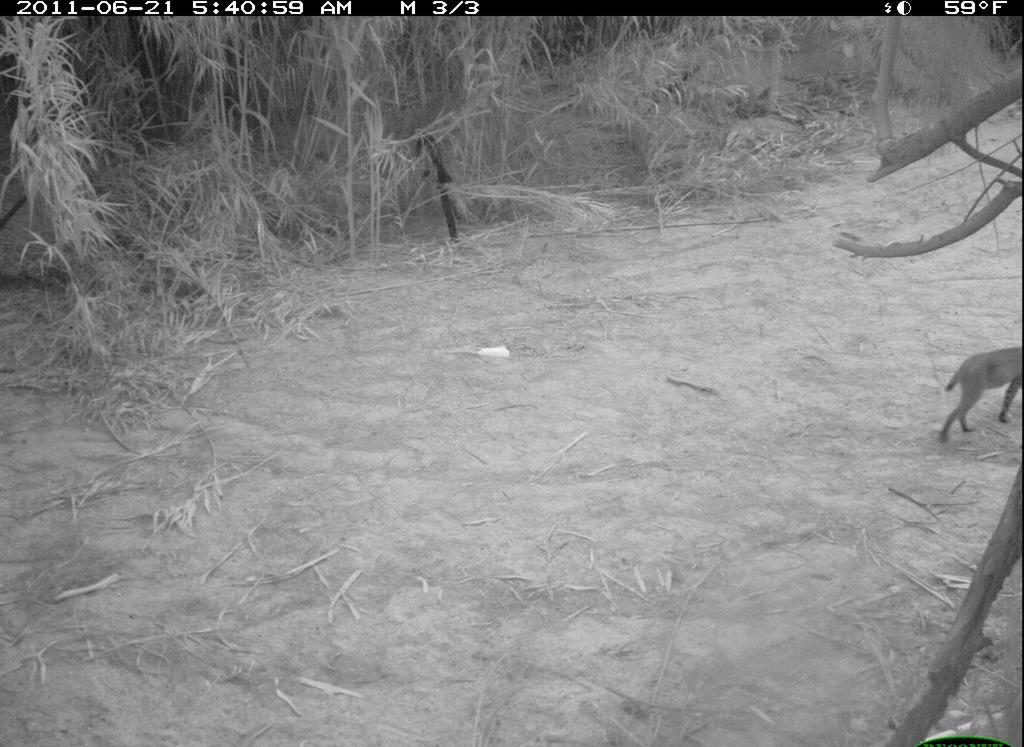bobcat: (931, 336, 1023, 452)
